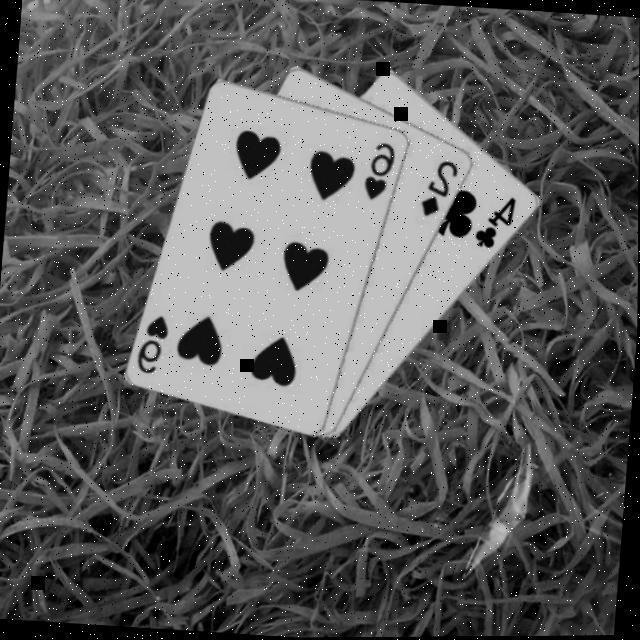2D: (420, 155, 464, 220)
4C: (473, 190, 522, 253)
6H: (136, 309, 174, 376), (362, 137, 400, 203)
